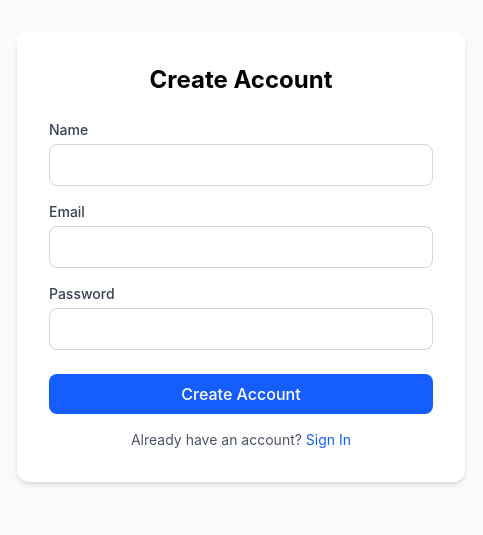
Test: RegisterPage › shows error message on failed registration
This screenshot has width=483, height=535.
Step 1. Type "Test User" into the field labelled "Name" → [241, 165], box [49,144,433,186]
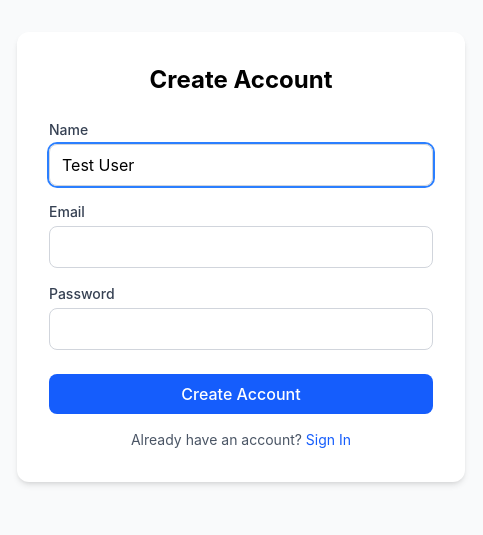
Step 2. Type "dup@example.com" into the field labelled "Email" → [241, 247], box [49,226,433,268]
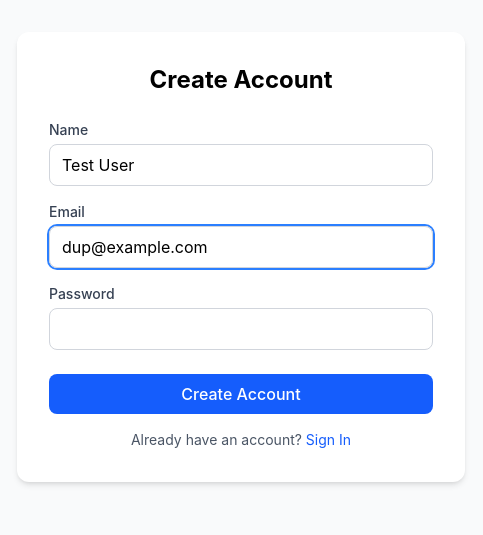
Step 3. Type "password123" into the password field labelled "Password" → [241, 329], box [49,308,433,350]
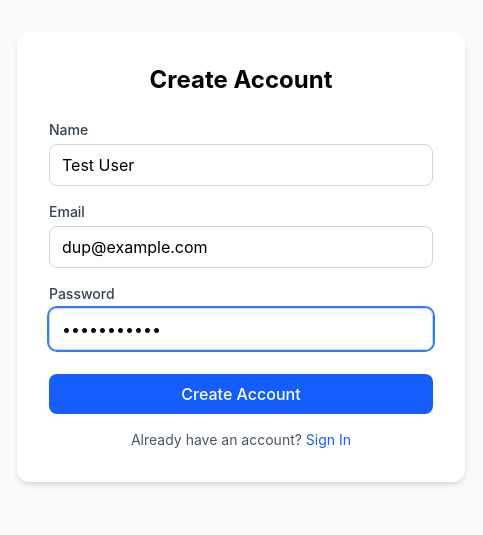
Step 4. Click the button "Create Account" → [241, 394], box [49,374,433,414]
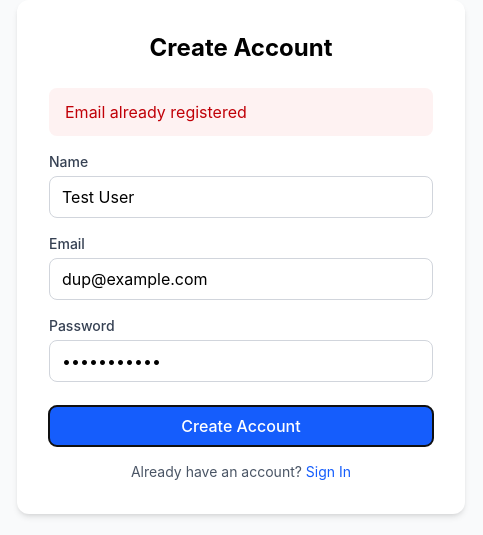
Result: the text "Email already registered" is shown at [49,88,433,136]
